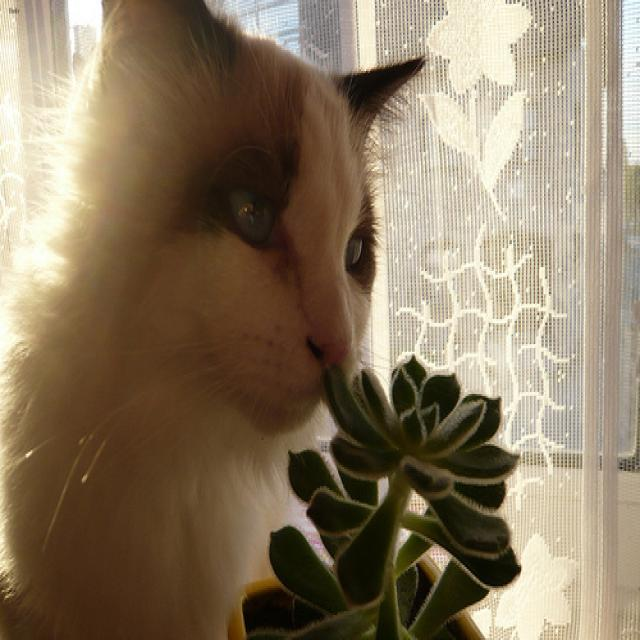Ragdoll: (101, 0, 421, 431)
